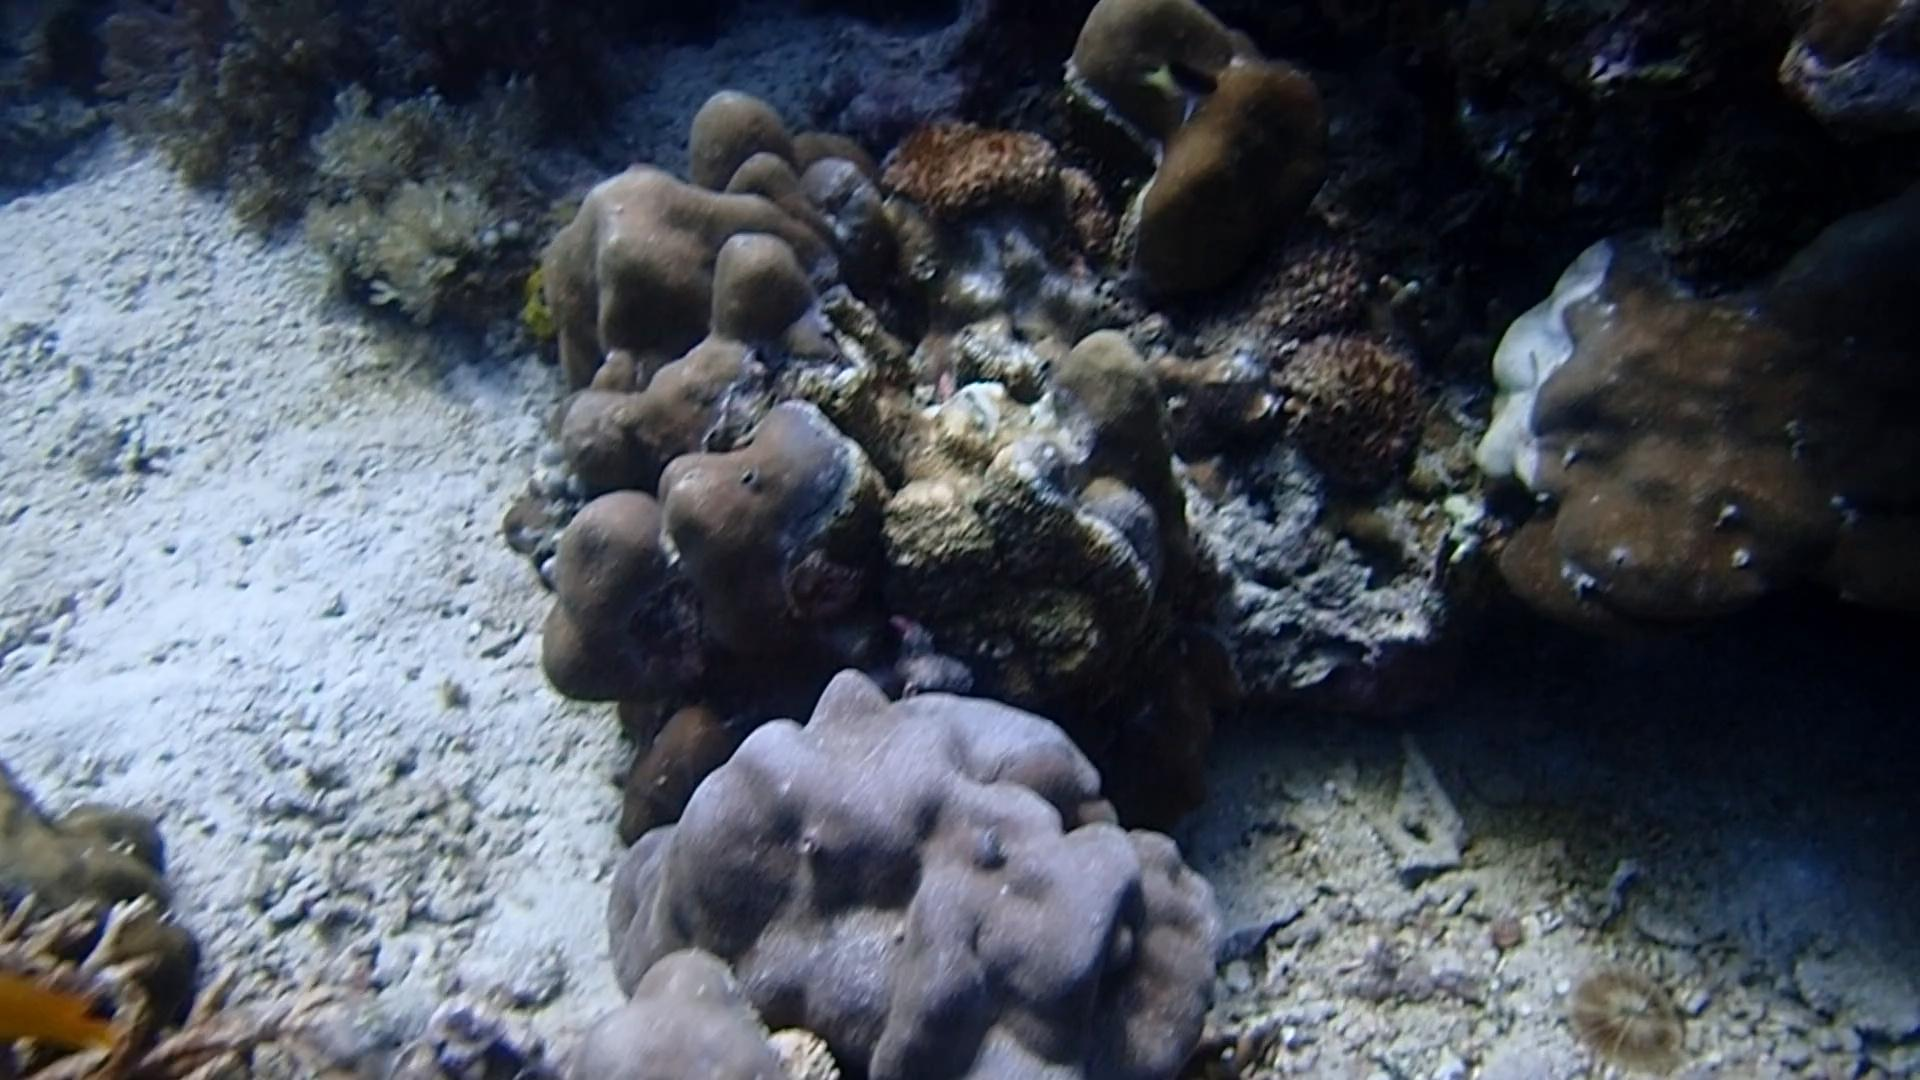Yellow Fish: (0, 969, 115, 1047)
Yellow Tail: (1124, 53, 1224, 123)
